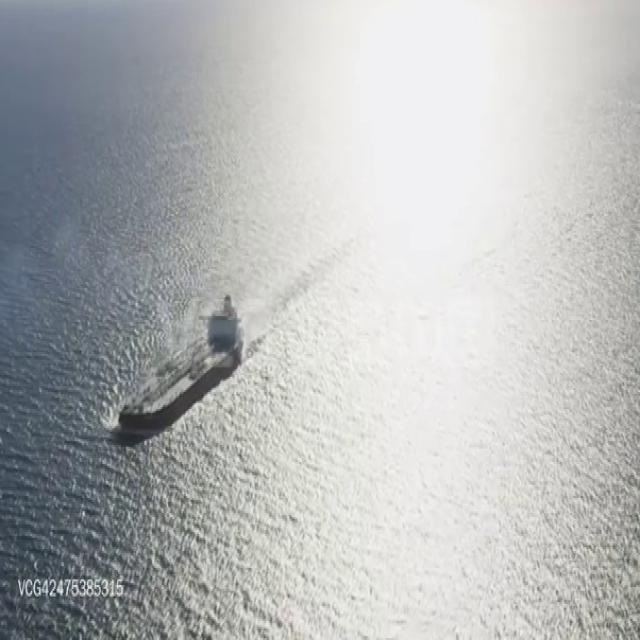cargoship: (119, 290, 240, 435)
